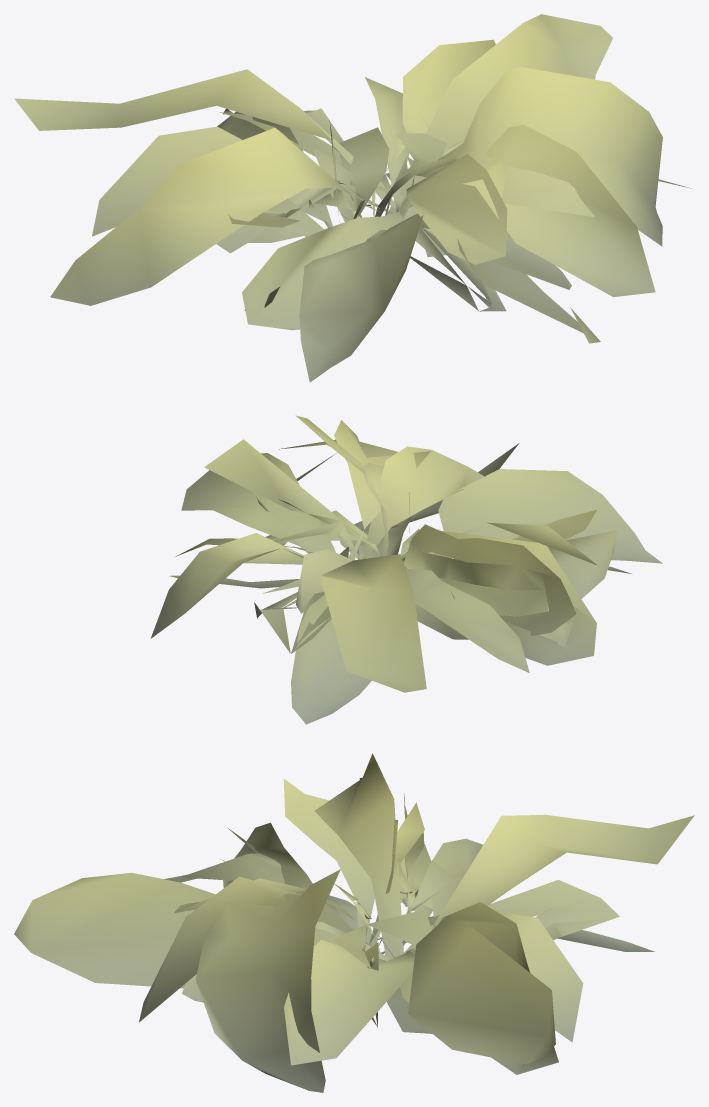
The model's file is plants_v2.glb.
3 renders of one model, top to bottom at view 1: azimuth 30°, elevation 25°; view 2: azimuth 150°, elevation 25°; view 3: azimuth 270°, elevation 25°, orthographic. The views are drawn at different scales.
Visible parts, largest first — view 1: dand_4, weed_2, dand_3, weed_3, weed_4; view 2: dand_4, weed_2, dand_3, weed_4, weed_3; view 3: dand_4, weed_2, dand_3, weed_3, weed_4.
Part boxes in pixels (left/top/right/bottom): dand_4: left=14, top=14, right=691, bottom=343; weed_2: left=216, top=66, right=662, bottom=382; dand_3: left=217, top=111, right=571, bottom=310; weed_3: left=262, top=39, right=506, bottom=311; weed_4: left=338, top=164, right=445, bottom=256; dand_4: left=150, top=420, right=631, bottom=692; weed_2: left=204, top=415, right=662, bottom=653; dand_3: left=169, top=492, right=617, bottom=724; weed_4: left=254, top=524, right=576, bottom=639; weed_3: left=175, top=499, right=596, bottom=665; dand_4: left=14, top=753, right=694, bottom=1065; weed_2: left=164, top=853, right=619, bottom=1092; dand_3: left=182, top=779, right=654, bottom=1033; weed_3: left=333, top=858, right=558, bottom=1074; weed_4: left=334, top=793, right=436, bottom=955.
Bounding box in the file's own units: 0.2144 × 0.0551 × 0.2055.
